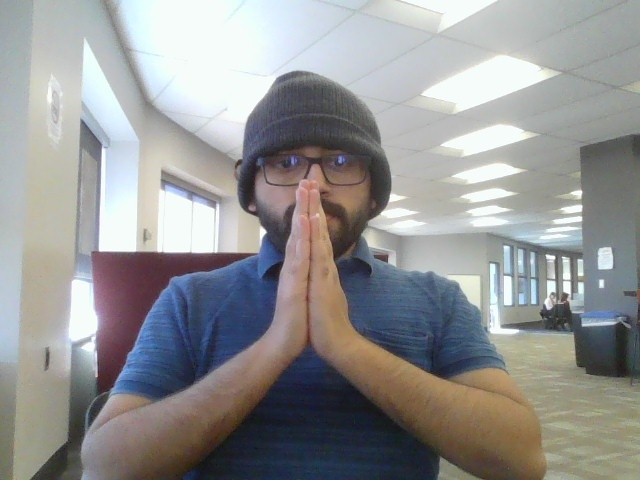start: (260, 169, 368, 377)
